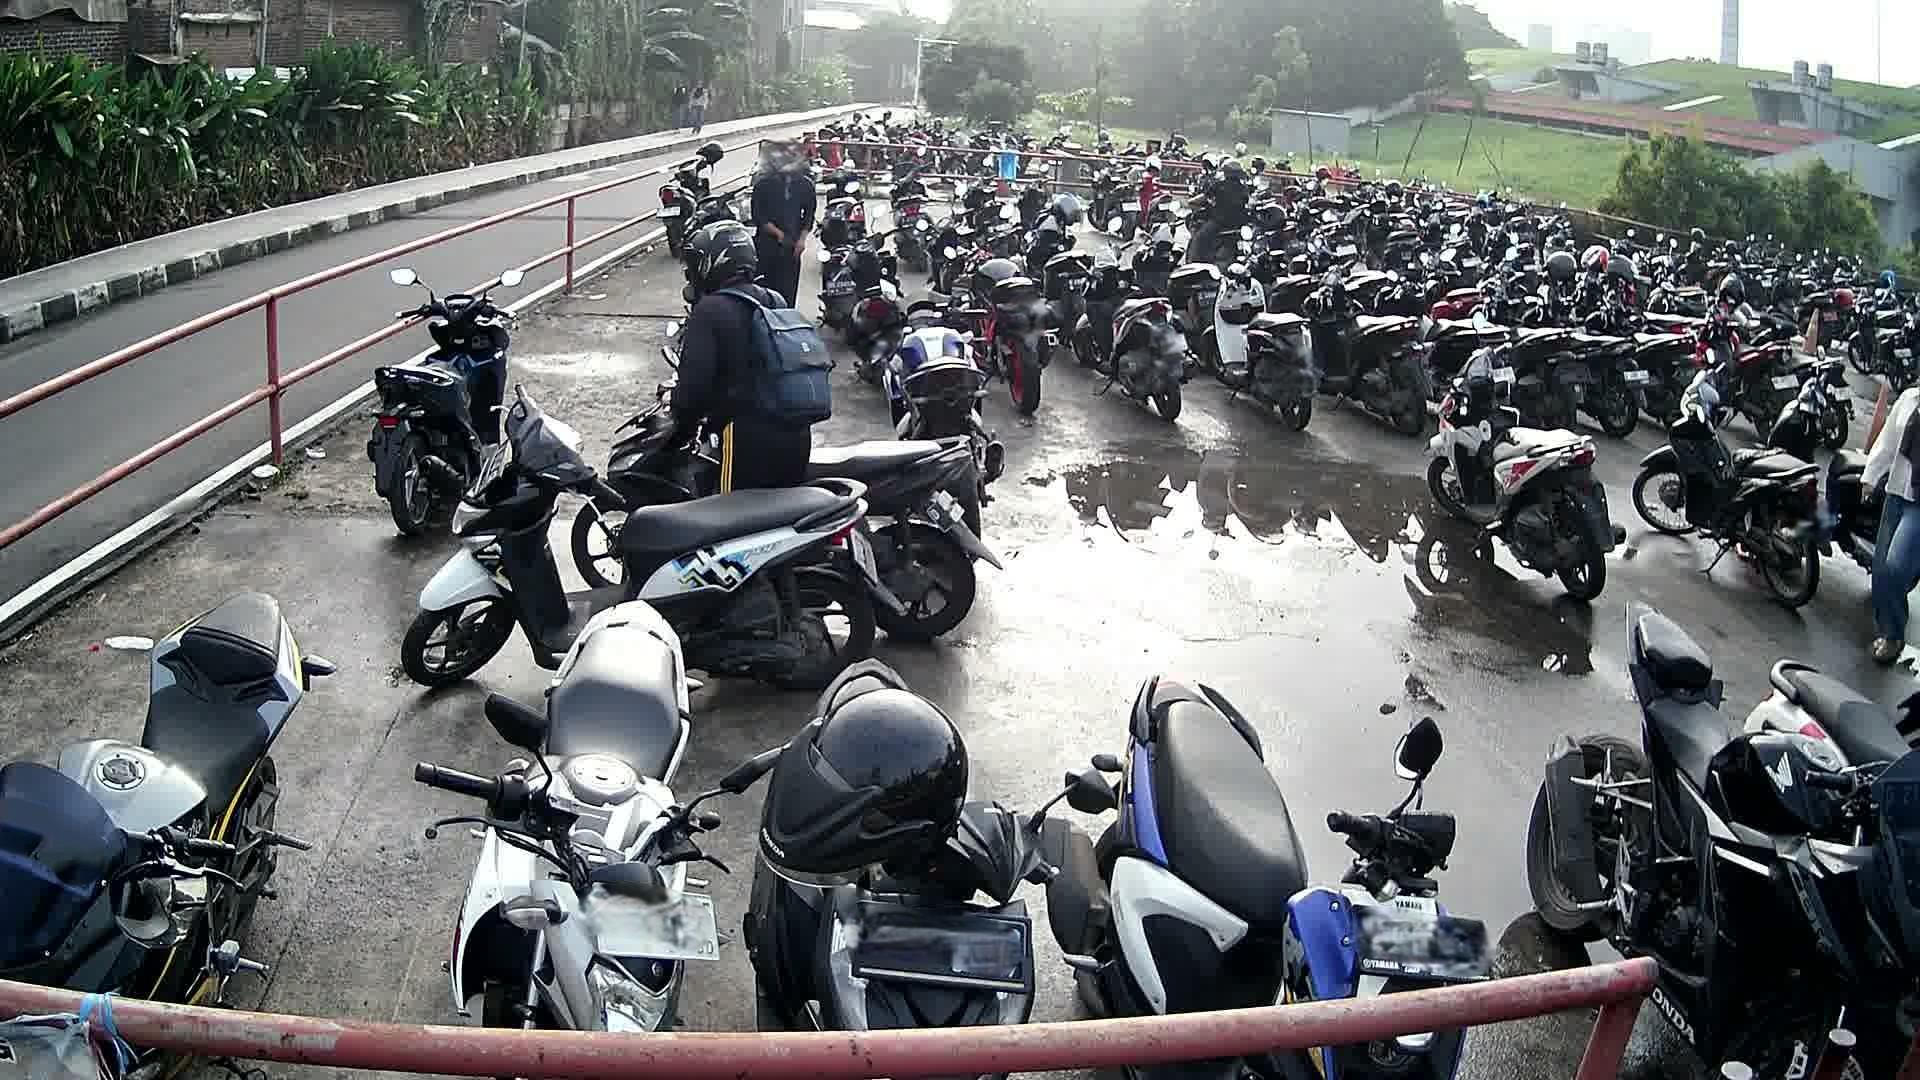motorcycle: (1524, 600, 1920, 1080), (0, 589, 340, 1080), (397, 389, 905, 694), (1036, 670, 1506, 990), (410, 600, 744, 1027), (571, 357, 1006, 646), (733, 659, 1067, 1031), (1433, 356, 1625, 601), (1640, 373, 1826, 613), (367, 262, 513, 543), (884, 301, 1021, 526), (1750, 663, 1920, 771)
